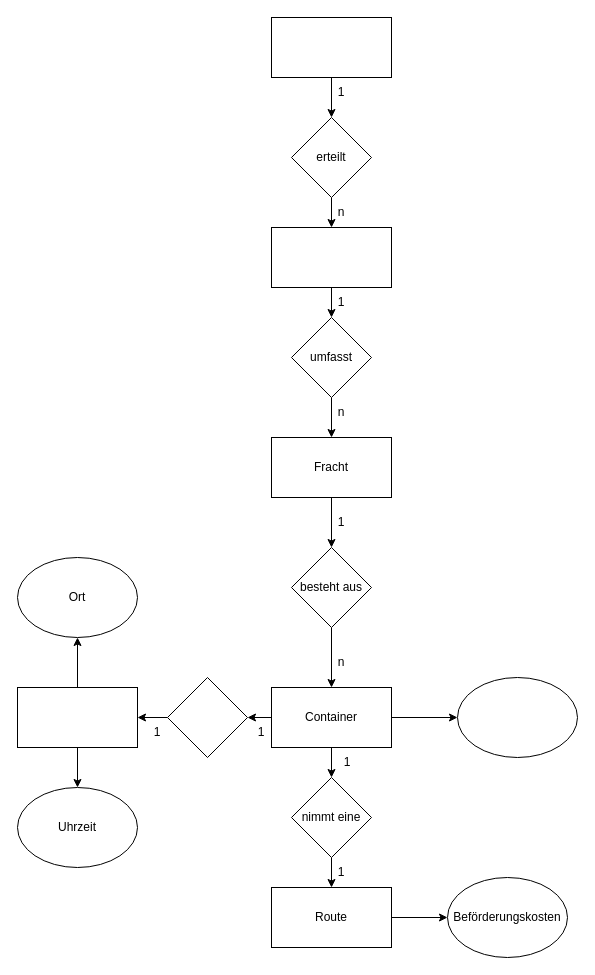
Some shapes in this 595 by 975 pixel diagram are drawn without their labels. The box of each missing label's shape, as (x1, y1, x2, y2) in pixels:
Auftrag: (270, 226, 392, 288)
Container Nummer: (456, 676, 578, 758)
hat eine: (166, 676, 248, 758)
Historie: (16, 686, 138, 748)
Kunde: (270, 16, 392, 78)
